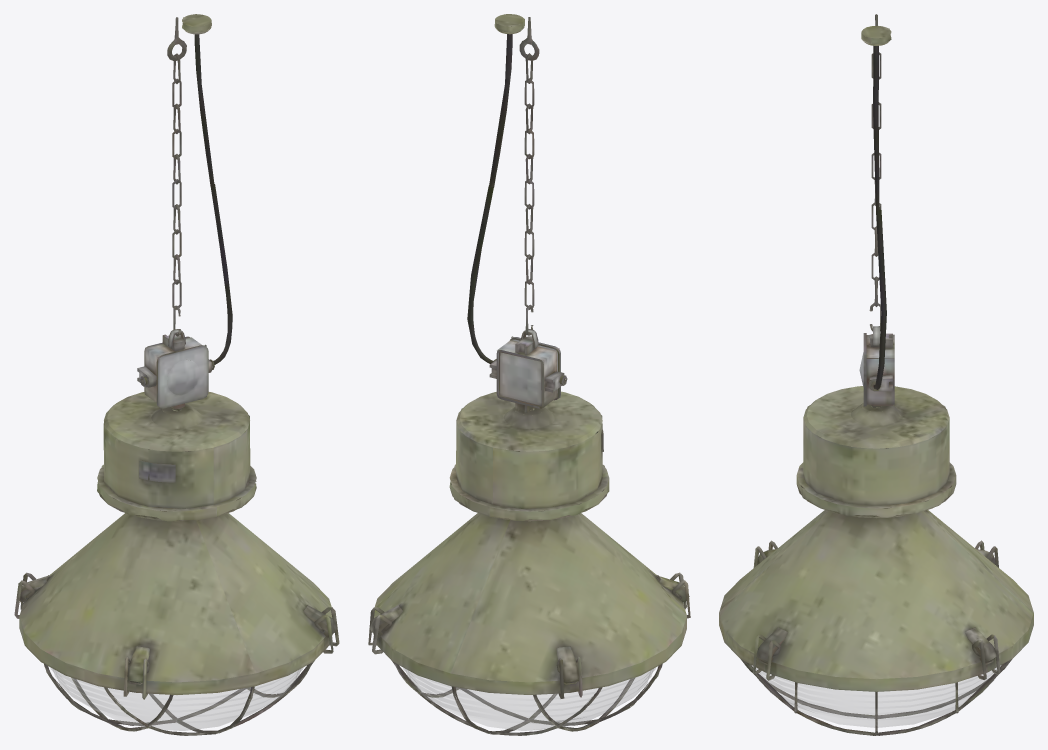
Rendered from hanging_lamp.glb.
3 views of the same model, side by side, from view 1: azimuth 30°, elevation 25°; view 2: azimuth 150°, elevation 25°; view 3: azimuth 270°, elevation 25° (orthographic).
Visible parts, largest first — view 1: hanging_lamp; view 2: hanging_lamp; view 3: hanging_lamp.
Part boxes in pixels (x1=…): hanging_lamp: x1=14, y1=14, x2=339, y2=735; hanging_lamp: x1=368, y1=14, x2=690, y2=735; hanging_lamp: x1=719, y1=14, x2=1033, y2=735.
Size of the model in its own units: 0.5495 by 1.36 by 0.5495.
Materials: 2 (1 with a texture image).
